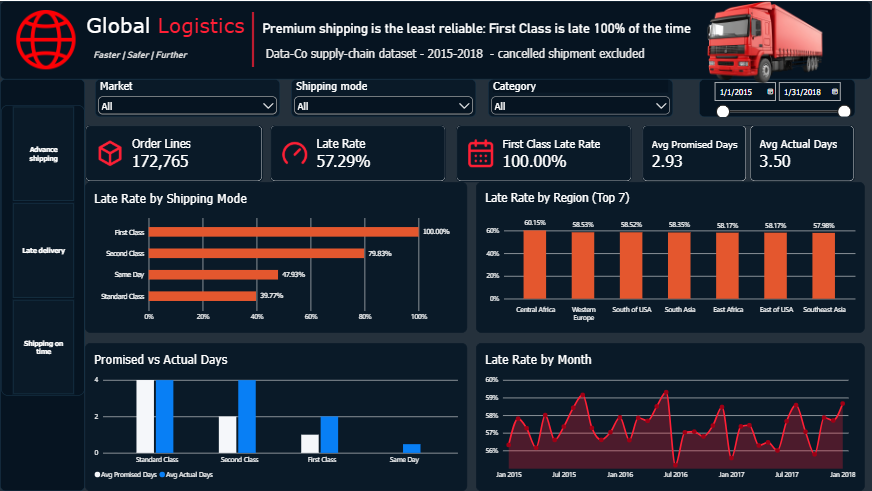

What the dashboard file says about the page in this screenshot:
{"tool":"powerbi","page":{"name":"Page 1","canvas":[1600,900],"ordinal":0},"visuals":[{"type":"textbox","box":[0,0,1600,144],"z":0},{"type":"image","box":[12.9,16.5,142.8,109.2],"z":1000},{"type":"shape","box":[415.1,20.2,99.2,101],"z":2000},{"type":"textbox","box":[0,143.3,156.1,756.7],"z":3000},{"type":"slicer","fields":{"Values":["logistics.Delivery_Status"]},"box":[1.8,191,154.3,534.5],"z":4000},{"type":"slicer","fields":{"Values":["logistics.Market"]},"box":[174.5,143.3,339.8,69.8],"z":5000},{"type":"slicer","fields":{"Values":["logistics.order_date"]},"box":[1283.9,143.3,286.5,69.8],"z":6000},{"type":"slicer","fields":{"Values":["logistics.Shipping_Mode"]},"box":[534.5,143.3,339.8,69.8],"z":7000},{"type":"slicer","fields":{"Values":["logistics.Category_Name"]},"box":[896.3,143.3,339.8,69.8],"z":8000},{"type":"cardVisual","fields":{"Data":["_Measures.Order Lines"]},"box":[156.1,227.8,326.9,104.7],"z":9000},{"type":"cardVisual","fields":{"Data":["_Measures.Late Rate"]},"box":[495.9,227.8,323.3,104.7],"z":10000},{"type":"cardVisual","fields":{"Data":["_Measures.First Class Late Rate"]},"box":[837.6,227.8,323.3,104.7],"z":11000},{"type":"cardVisual","fields":{"Data":["_Measures.Avg Promised Days","_Measures.Avg Actual Days"]},"box":[1179.2,227.8,391.2,104.7],"z":12000},{"type":"clusteredBarChart","title":"Late Rate by Shipping Mode","fields":{"Category":["logistics.Shipping_Mode"],"Y":["_Measures.Late Rate"]},"box":[156.1,332.4,701.6,277.3],"z":13000},{"type":"clusteredColumnChart","title":"Promised vs Actual Days ","fields":{"Category":["logistics.Shipping_Mode"],"Y":["_Measures.Avg Promised Days","_Measures.Avg Actual Days"]},"box":[156.1,628.2,701.6,271.8],"z":14000},{"type":"lineChart","fields":{"Category":["logistics.Month"],"Y":["_Measures.Late Rate"]},"box":[874.3,628.2,714.5,271.8],"z":15000},{"type":"clusteredColumnChart","title":"Late Rate by Region (Top 7)","fields":{"Category":["logistics.Order_Region"],"Y":["_Measures.Late Rate"]},"box":[874.3,332.4,714.5,277.3],"z":16000},{"type":"image","box":[1206.7,0,393.1,158],"z":16001}]}

Visuals, with their boxes in screenshot pixels (x1, y1, x2, y2), scaled from the page's 1600x900 canvas onto the 872x491 screenshot:
textbox: box(0, 0, 871, 79)
image: box(7, 9, 85, 69)
shape: box(226, 11, 280, 66)
textbox: box(0, 78, 85, 490)
slicer - logistics.Delivery_Status: box(1, 104, 85, 396)
slicer - logistics.Market: box(95, 78, 280, 116)
slicer - logistics.order_date: box(700, 78, 856, 116)
slicer - logistics.Shipping_Mode: box(291, 78, 476, 116)
slicer - logistics.Category_Name: box(488, 78, 674, 116)
cardVisual - _Measures.Order Lines: box(85, 124, 263, 181)
cardVisual - _Measures.Late Rate: box(270, 124, 446, 181)
cardVisual - _Measures.First Class Late Rate: box(456, 124, 633, 181)
cardVisual - _Measures.Avg Promised Days x _Measures.Avg Actual Days: box(643, 124, 856, 181)
"Late Rate by Shipping Mode" clusteredBarChart: box(85, 181, 467, 333)
"Promised vs Actual Days " clusteredColumnChart: box(85, 343, 467, 490)
lineChart - logistics.Month x _Measures.Late Rate: box(476, 343, 866, 490)
"Late Rate by Region (Top 7)" clusteredColumnChart: box(476, 181, 866, 333)
image: box(658, 0, 871, 86)
